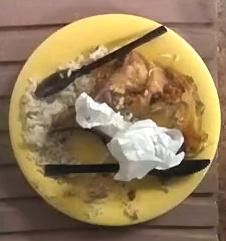potato: (91, 49, 203, 130)
rice: (20, 73, 96, 165)
